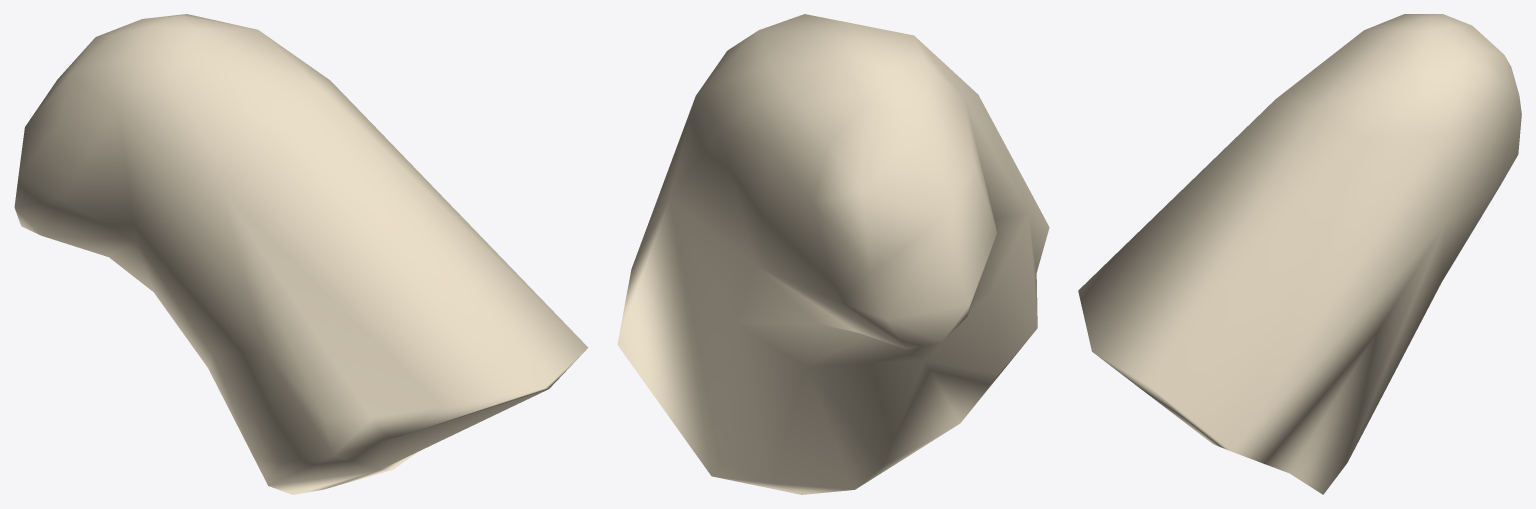
File: corniculate-cartilage-l.glb
3 views of the same model, side by side, from view 1: azimuth 30°, elevation 25°; view 2: azimuth 150°, elevation 25°; view 3: azimuth 270°, elevation 25° (orthographic). The views are drawn at different scales.
Parts seen in each view (by area): view 1: Corniculate cartilage.l; view 2: Corniculate cartilage.l; view 3: Corniculate cartilage.l.
Boxes of the visible parts, x1,y1,x2,y2 form: Corniculate cartilage.l: (14, 14, 588, 494); Corniculate cartilage.l: (617, 14, 1049, 494); Corniculate cartilage.l: (1078, 14, 1521, 494).
Size of the model in its own units: 0.00151 by 0.00156 by 0.00158.
